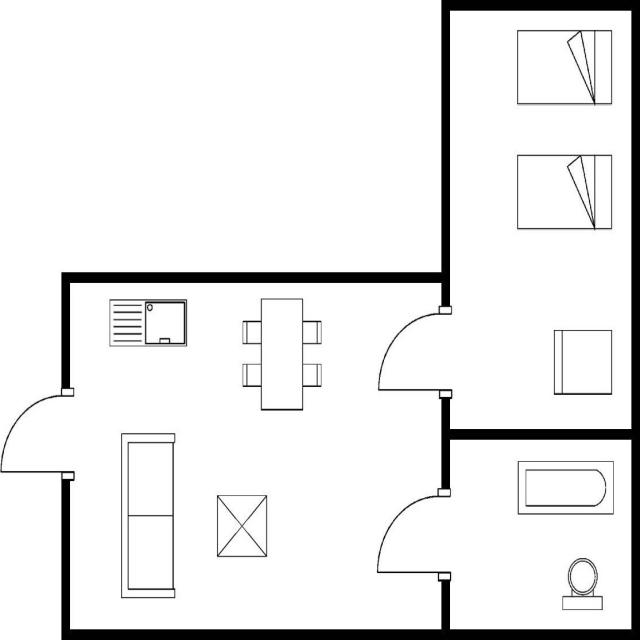bed: (514, 26, 616, 108), (512, 151, 614, 233)
coffee_table: (212, 490, 270, 562)
dining_table: (240, 294, 323, 414)
large_sink: (560, 554, 605, 614)
large_sofa: (116, 429, 178, 602)
sink: (107, 296, 189, 350)
small_sofa: (551, 327, 614, 399)
tub: (513, 457, 616, 519)
